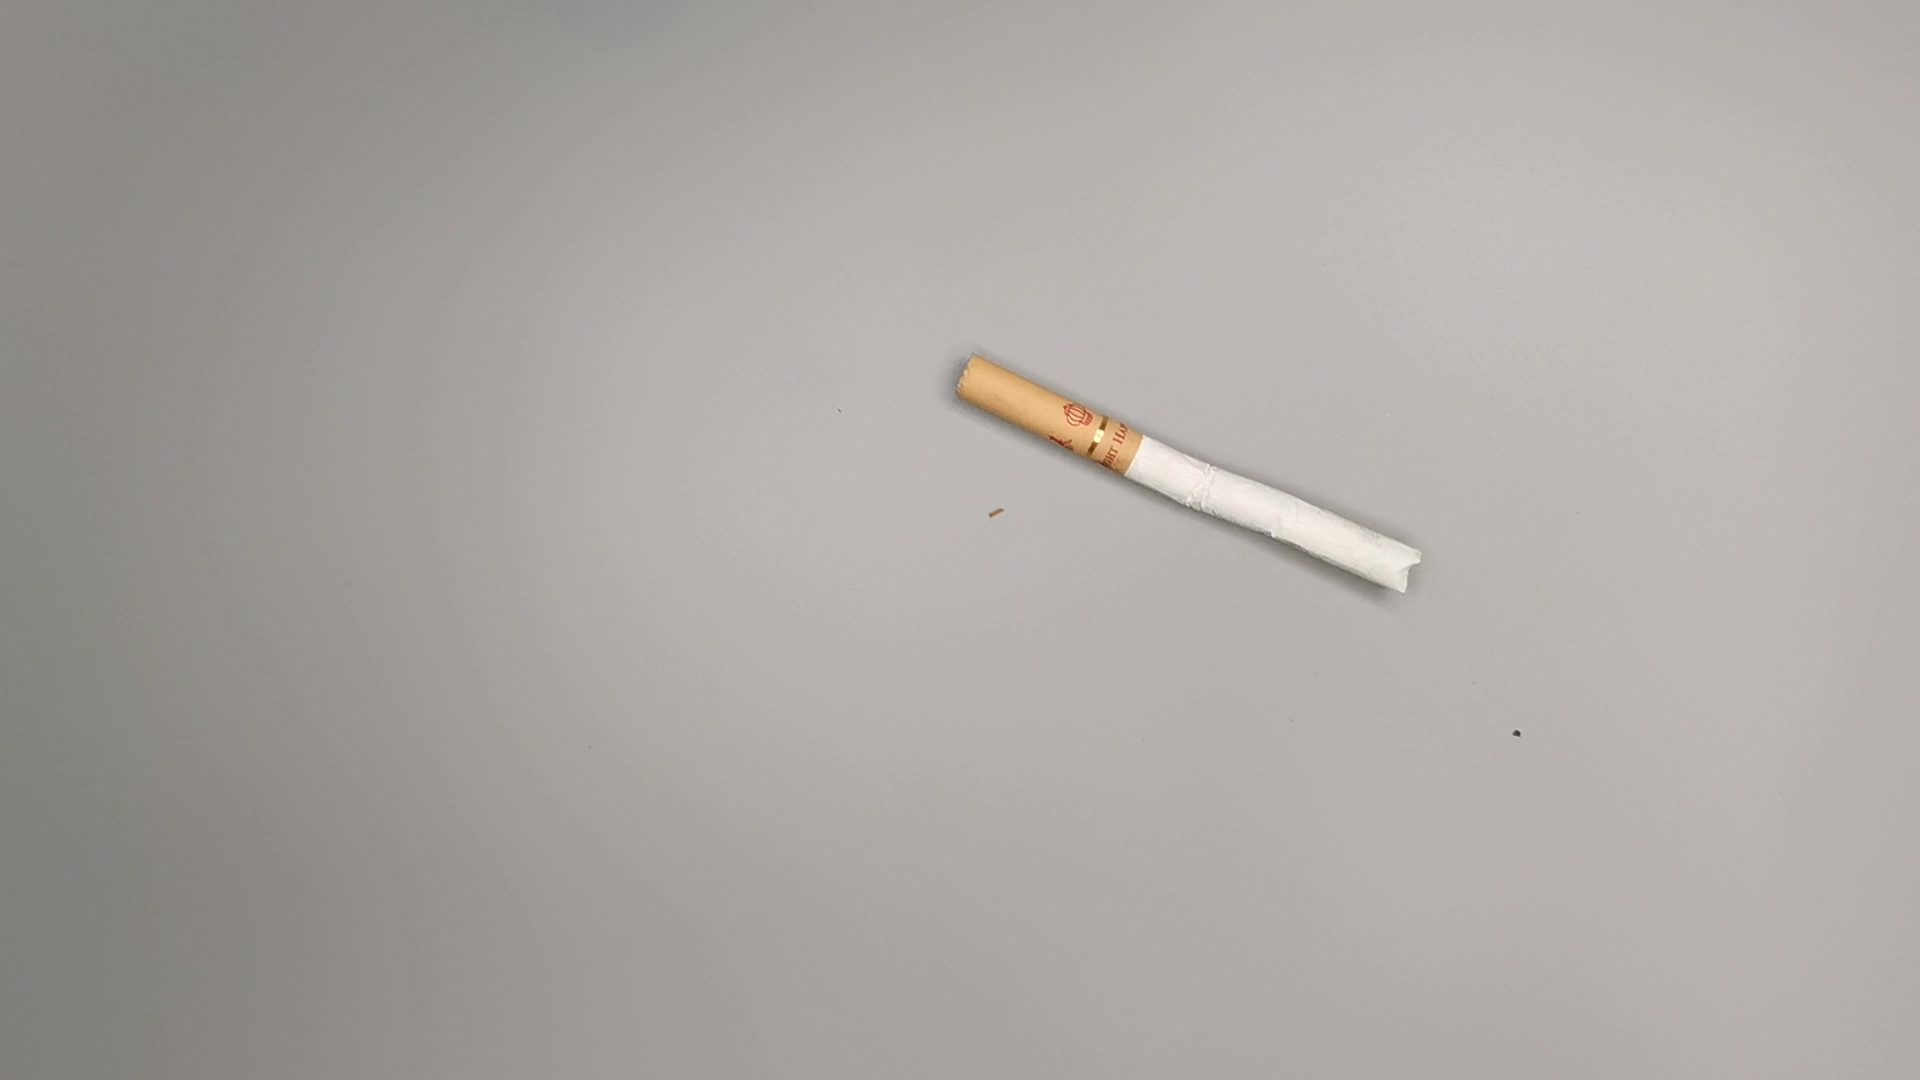cigarette: (947, 343, 1436, 607)
